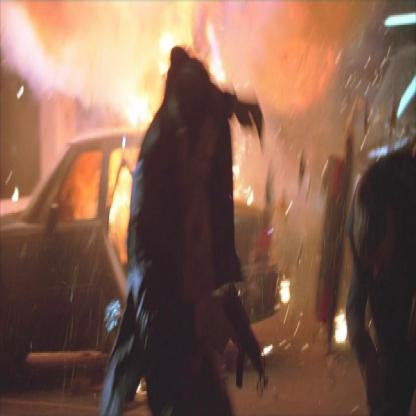Guns: (220, 276, 266, 400)
